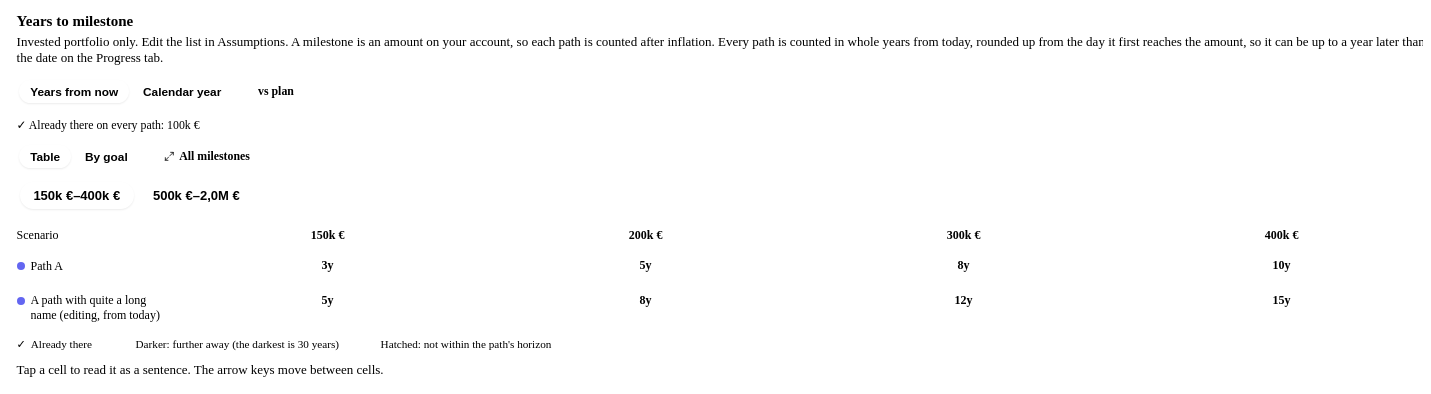
Test: the table on a phone, paged by width › does not leave the sentence of a cell that is no longer on the page
Click the cell "3y": (328, 265) [169,248,487,283]
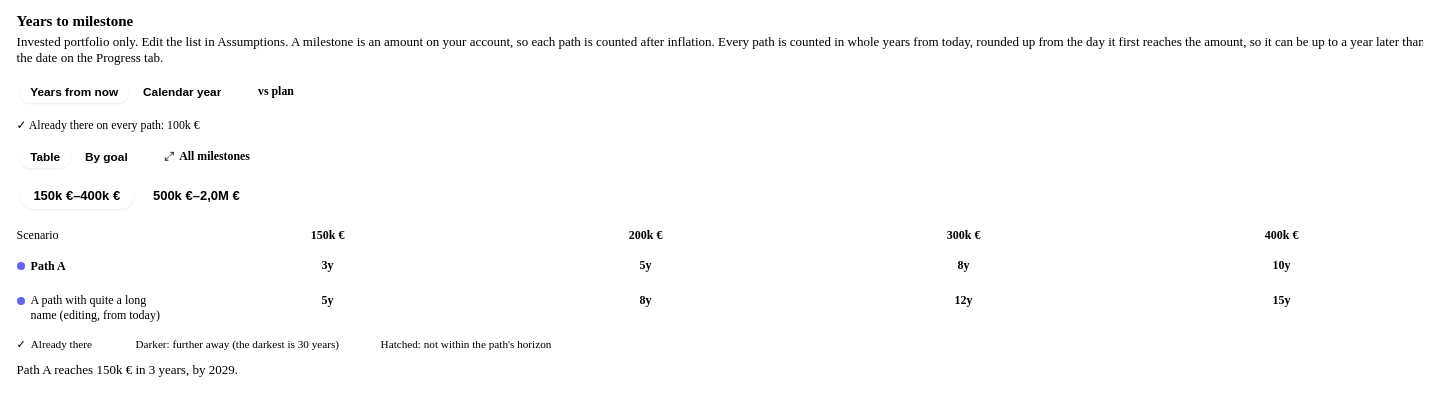
Now the text "Path A reaches 150k € in 3 years, by 2029." is shown, box [17,362,238,377]
Click the radio button labelled "500k €–2,0M €": (196, 196) [139,182,253,209]
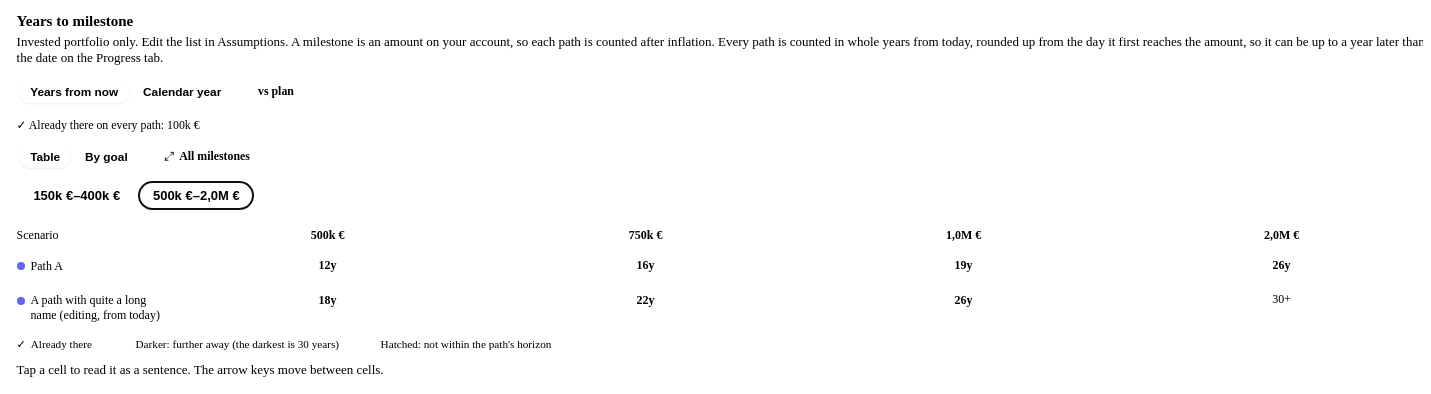
Now the text "Tap a cell to read it as a sentence" is shown, box [17,362,384,377]
